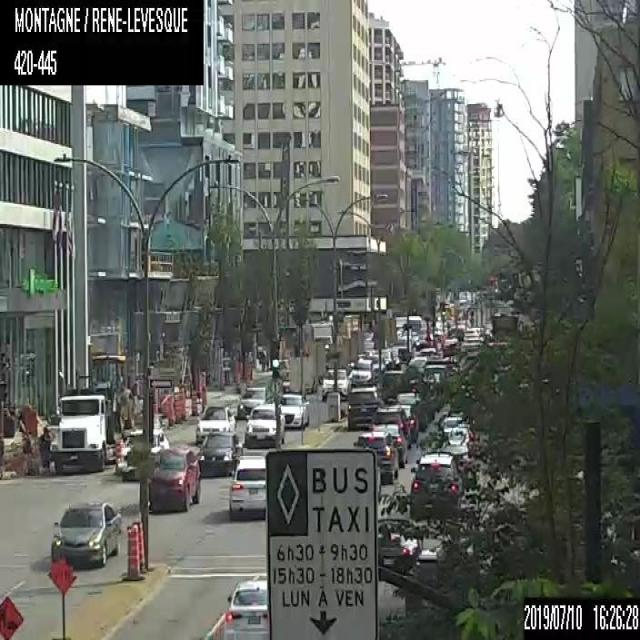construction: (23, 403, 39, 475), (125, 520, 143, 580), (50, 560, 77, 596), (0, 594, 22, 638), (132, 520, 146, 572), (190, 388, 198, 415), (174, 395, 182, 422), (167, 395, 173, 426), (0, 630, 6, 638)
pedestrian: (38, 424, 50, 474)
vehicle: (49, 387, 124, 468), (48, 500, 121, 565), (146, 443, 198, 512), (411, 451, 462, 518), (229, 453, 275, 521), (222, 578, 269, 638), (376, 516, 425, 570), (353, 431, 399, 484), (195, 428, 244, 476), (277, 387, 309, 445), (348, 384, 386, 429), (246, 404, 284, 448), (372, 406, 409, 451), (372, 423, 407, 467), (195, 404, 234, 442), (389, 402, 418, 442), (235, 383, 268, 416), (319, 366, 351, 398), (438, 444, 469, 472), (347, 356, 377, 384), (444, 426, 472, 451), (441, 415, 462, 437), (371, 352, 385, 383), (394, 391, 420, 405), (387, 347, 401, 370), (380, 350, 394, 370)
